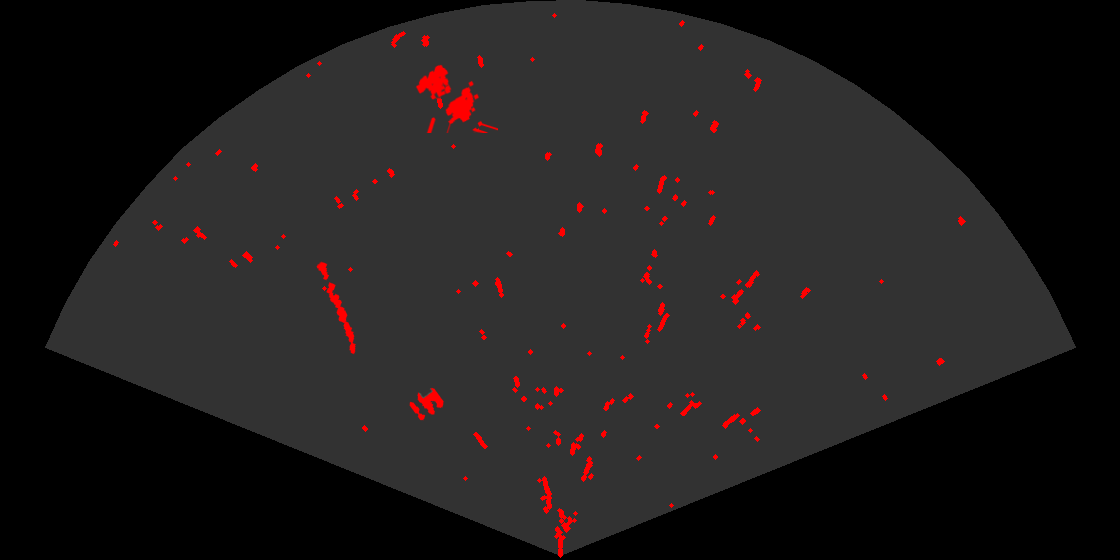ball: (408, 386, 445, 422)
cage: (414, 63, 498, 133)
chain: (315, 260, 357, 356)
